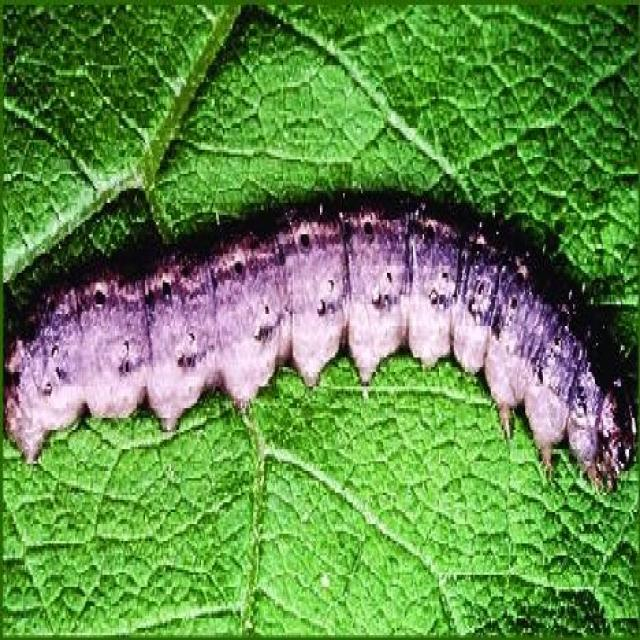black cutworm: (7, 200, 632, 488)
